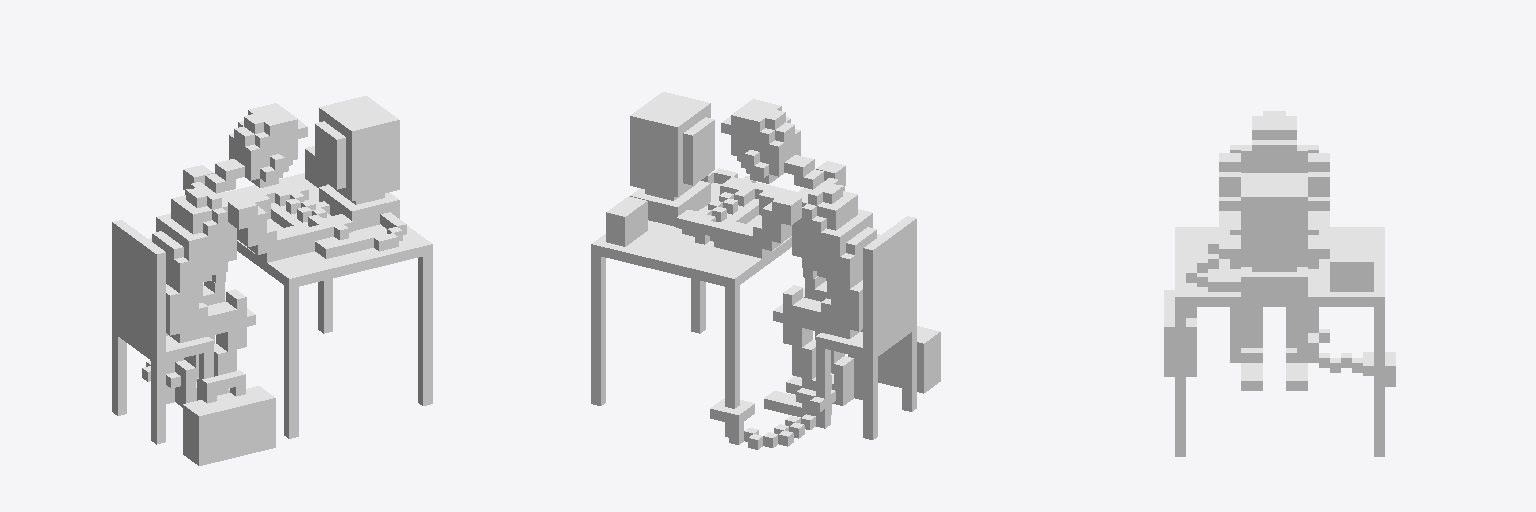
The model's file is NeoSlavery-1.obj.
3 views of the same model, side by side, from view 1: azimuth 30°, elevation 25°; view 2: azimuth 150°, elevation 25°; view 3: azimuth 270°, elevation 25° (orthographic).
Parts seen in each view (by area): view 1: object 1; view 2: object 1; view 3: object 1.
Part boxes in pixels (x1,y1,x2,y2): object 1: (112,96,432,465); object 1: (591,92,940,449); object 1: (1164,111,1395,456).
Bounding box in the file's own units: 2.6 × 2.8 × 2.1.